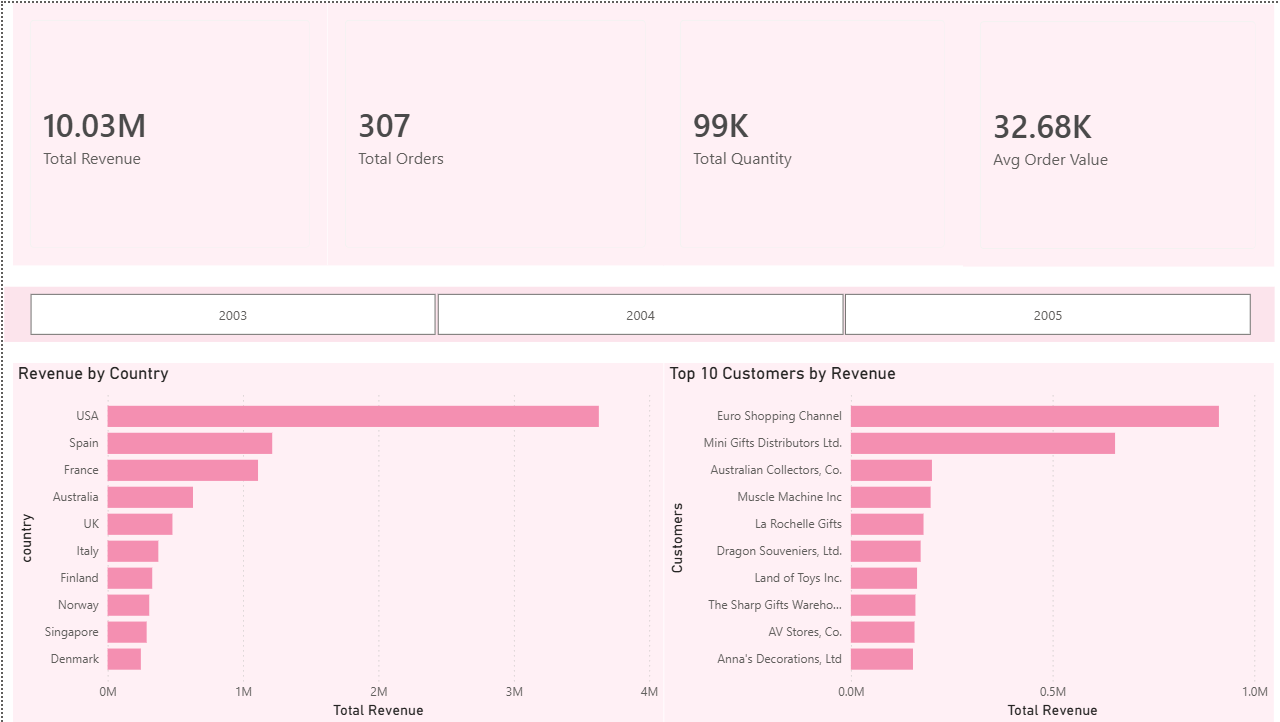

What the dashboard file says about the page in this screenshot:
{"tool":"powerbi","page":{"name":"Customers","canvas":[1280,720],"ordinal":2},"visuals":[{"type":"cardVisual","fields":{"Data":["public customers.Total Revenue"]},"box":[10,0,314.7,262.5],"z":0},{"type":"cardVisual","fields":{"Data":["public customers.Total Orders"]},"box":[324.7,0,335.9,262.5],"z":1000},{"type":"cardVisual","fields":{"Data":["public customers.Total Quantity"]},"box":[660.5,0,299.8,262.5],"z":2000},{"type":"cardVisual","fields":{"Data":["public customers.Avg Order Value"]},"box":[960.3,1.2,311,262.5],"z":3000},{"type":"slicer","fields":{"Values":["public orders.year_id"]},"box":[1.4,284,1270.7,54.9],"z":4000},{"type":"clusteredBarChart","title":"Revenue by Country","fields":{"Category":["public customers.country"],"Y":["public customers.Total Revenue"]},"box":[9.6,359.5,650.4,360.9],"z":5000},{"type":"clusteredBarChart","title":"Top 10 Customers by Revenue","fields":{"Category":["public customers.customer_name"],"Y":["public customers.Total Revenue"]},"box":[661.4,359.5,609.3,360.9],"z":6000}]}

Visuals, with their boxes in screenshot pixels (x1, y1, x2, y2), scaled from the page's 1280x720 canvas onto the 1280x722 screenshot:
cardVisual - public customers.Total Revenue: bbox(10, 0, 325, 263)
cardVisual - public customers.Total Orders: bbox(325, 0, 661, 263)
cardVisual - public customers.Total Quantity: bbox(660, 0, 960, 263)
cardVisual - public customers.Avg Order Value: bbox(960, 1, 1271, 264)
slicer - public orders.year_id: bbox(1, 285, 1272, 340)
"Revenue by Country" clusteredBarChart: bbox(10, 360, 660, 721)
"Top 10 Customers by Revenue" clusteredBarChart: bbox(661, 360, 1271, 721)
